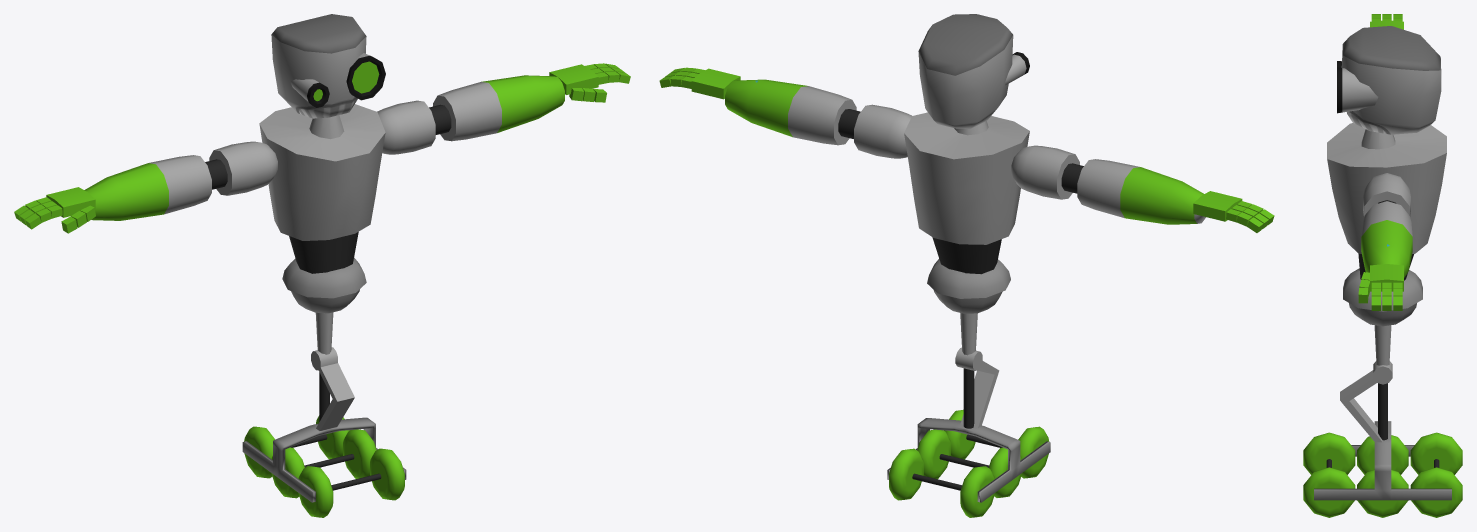
The model's file is Green_Robot.fbx.
The picture shows the model from 3 angles, left to right: view 1: azimuth 30°, elevation 25°; view 2: azimuth 150°, elevation 25°; view 3: azimuth 270°, elevation 25°; orthographic projection.
Visible parts, largest first — view 1: Torso, Head, Right_Arm, Left_Arm, Hips, Front_Wheel, Wheels, Right_Hand, Middle_Wheel, Left_Hand, Knee, Back_Wheel; view 2: Torso, Head, Right_Arm, Left_Arm, Hips, Wheels, Back_Wheel, Middle_Wheel, Right_Hand, Front_Wheel, Left_Hand, Knee; view 3: Head, Torso, Left_Arm, Wheels, Back_Wheel, Front_Wheel, Hips, Middle_Wheel, Left_Hand, Knee, Right_Hand.
Part boxes in pixels (bbox=[...]): Torso: bbox=[259, 104, 385, 273]; Head: bbox=[271, 14, 385, 118]; Right_Arm: bbox=[84, 141, 277, 220]; Left_Arm: bbox=[377, 75, 564, 154]; Hips: bbox=[282, 257, 366, 354]; Front_Wheel: bbox=[298, 448, 404, 517]; Wheels: bbox=[242, 372, 406, 502]; Right_Hand: bbox=[14, 187, 95, 233]; Middle_Wheel: bbox=[271, 429, 376, 498]; Left_Hand: bbox=[549, 63, 630, 102]; Knee: bbox=[311, 347, 354, 430]; Back_Wheel: bbox=[244, 415, 349, 478]; Torso: bbox=[904, 112, 1029, 274]; Head: bbox=[918, 14, 1029, 128]; Right_Arm: bbox=[1011, 145, 1205, 224]; Left_Arm: bbox=[725, 79, 911, 158]; Hips: bbox=[927, 258, 1010, 355]; Wheels: bbox=[887, 368, 1050, 502]; Back_Wheel: bbox=[889, 448, 994, 517]; Middle_Wheel: bbox=[917, 429, 1022, 497]; Right_Hand: bbox=[1193, 191, 1274, 232]; Front_Wheel: bbox=[944, 409, 1049, 478]; Left_Hand: bbox=[659, 67, 740, 99]; Knee: bbox=[955, 347, 999, 428]; Head: bbox=[1337, 26, 1441, 134]; Torso: bbox=[1327, 123, 1446, 280]; Left_Arm: bbox=[1361, 173, 1412, 277]; Wheels: bbox=[1314, 383, 1451, 500]; Back_Wheel: bbox=[1410, 432, 1462, 517]; Front_Wheel: bbox=[1303, 432, 1355, 517]; Hips: bbox=[1343, 268, 1422, 365]; Middle_Wheel: bbox=[1357, 435, 1408, 517]; Left_Hand: bbox=[1358, 264, 1403, 310]; Knee: bbox=[1340, 361, 1392, 442]; Right_Hand: bbox=[1370, 14, 1403, 29].
Size of the model in its own units: 215 by 158 by 49.59.
